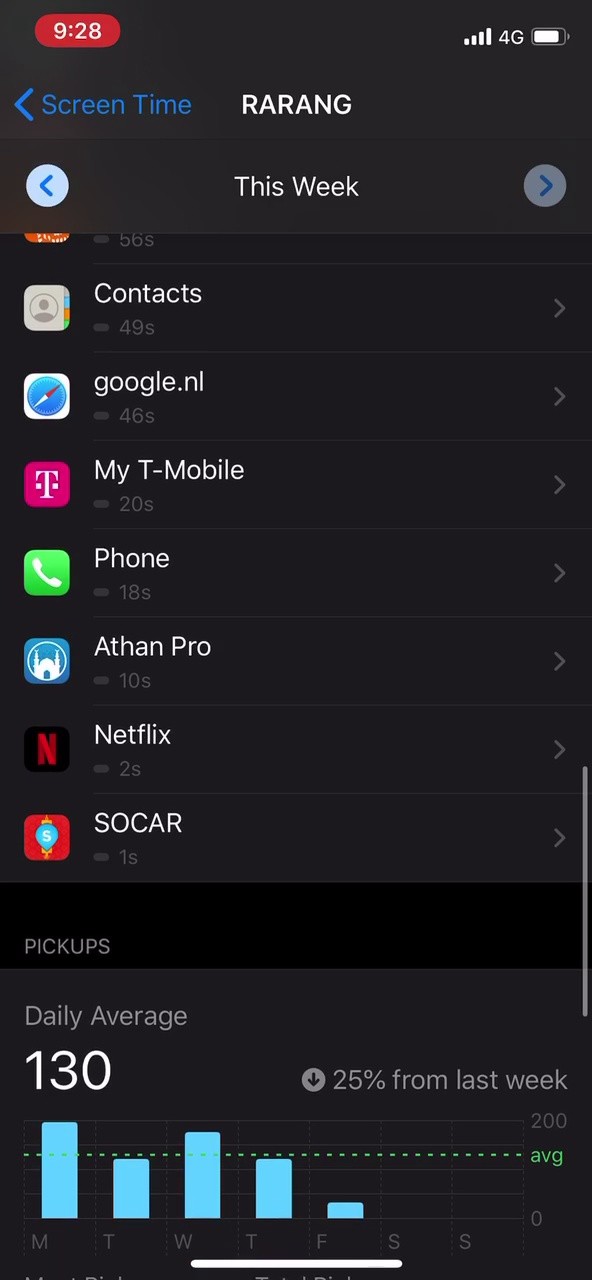week: (223, 163, 366, 203)
